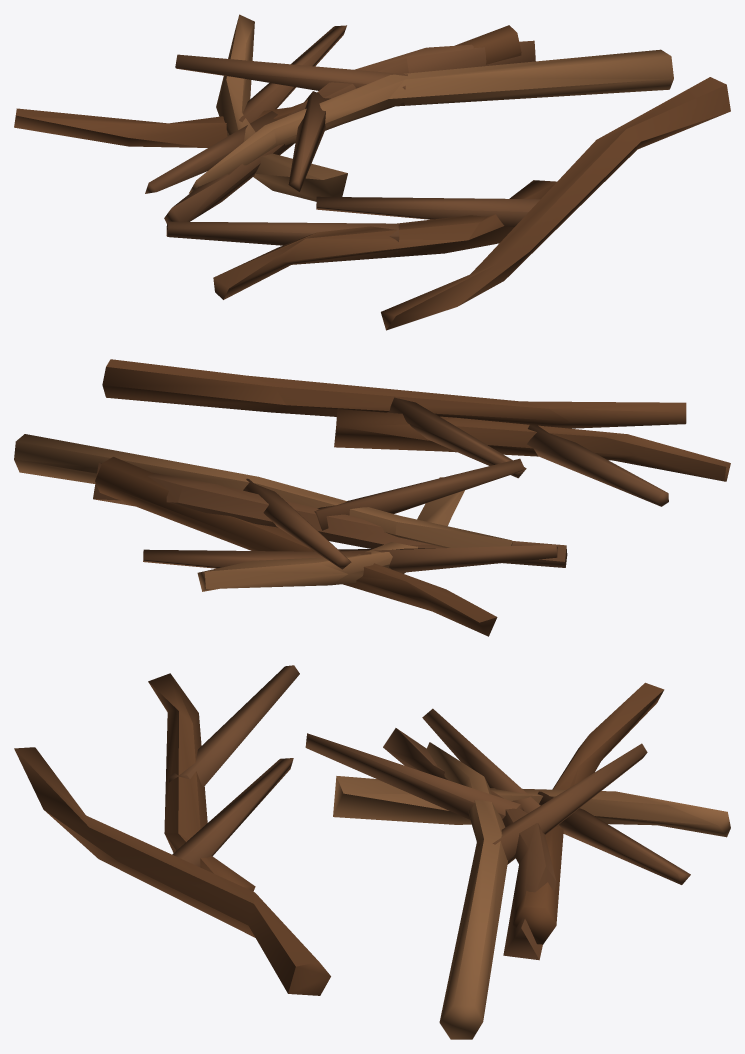
The model's file is glade_gc_twigs_c_lod1.glb.
3 renders of one model, top to bottom at view 1: azimuth 30°, elevation 25°; view 2: azimuth 150°, elevation 25°; view 3: azimuth 270°, elevation 25°, orthographic. The views are drawn at different scales.
Visible parts, largest first — view 1: glade_gc_twigs_c.001; view 2: glade_gc_twigs_c.001; view 3: glade_gc_twigs_c.001.
Boxes of the visible parts, bbox=[...] form: glade_gc_twigs_c.001: bbox=[14, 14, 730, 330]; glade_gc_twigs_c.001: bbox=[14, 359, 730, 636]; glade_gc_twigs_c.001: bbox=[14, 665, 730, 1039].
Bounding box in the file's own units: 4.1 × 0.4739 × 3.94.
